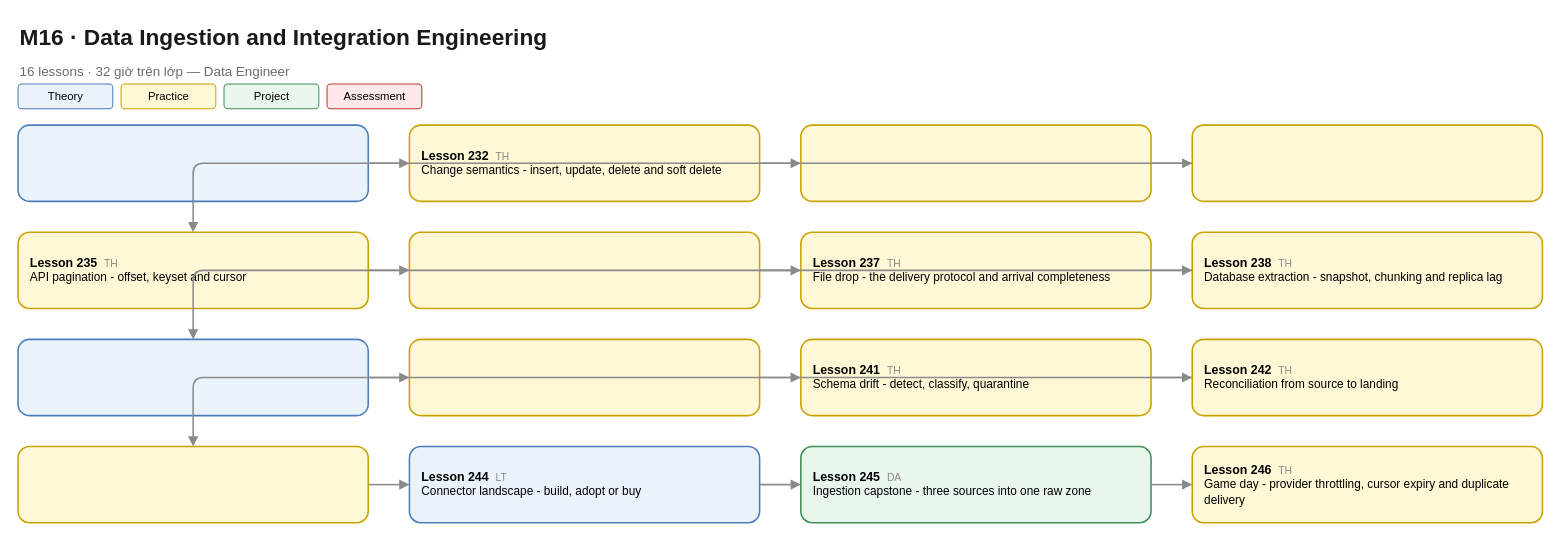
The diagram is 1561 pixels wide and 541 high, and some of its shapes have lost their labels. The shapes that lost their labels are listed below. From the top down, each one's box as (x1, y1, x2, y2) in pixels, then its label:
(17, 124, 369, 202): Lesson 231 LT Source discovery and the extraction contract
(800, 124, 1151, 202): Lesson 233 TH Choosing an extraction pattern
(1191, 124, 1543, 202): Lesson 234 TH High watermark - the five assumptions it needs
(408, 231, 760, 309): Lesson 236 TH Rate limits, retry budget and source protection
(17, 338, 369, 416): Lesson 239 LT The landing zone - fidelity, envelope and required metadata
(408, 338, 760, 416): Lesson 240 TH Atomic landing and the checkpoint ordering rule
(17, 445, 369, 523): Lesson 243 TH Ingestion SLO and the backfill isolation rule
